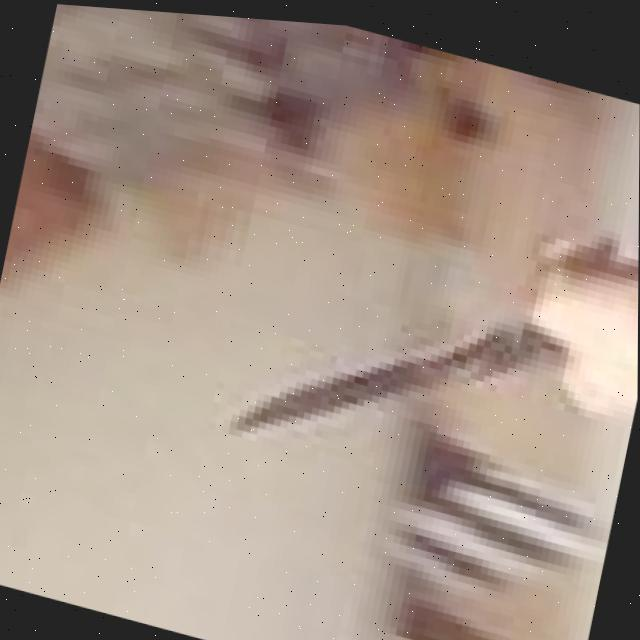knife: (220, 243, 575, 510)
